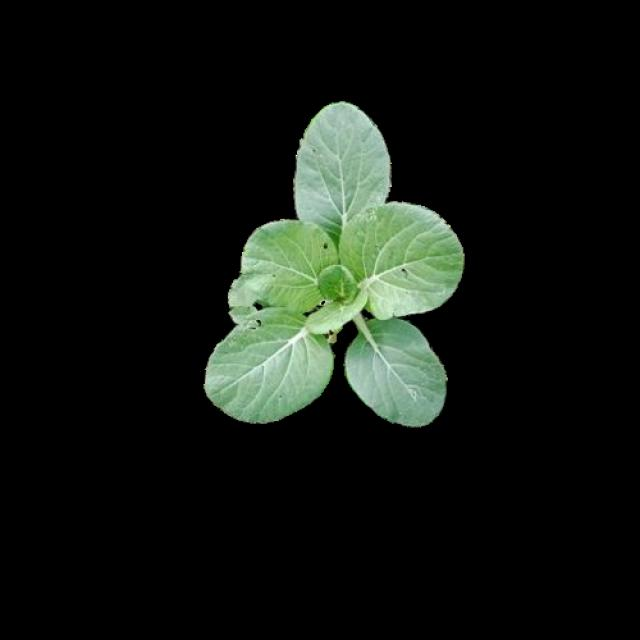not-mature: (206, 101, 462, 425)
unhealthy: (205, 308, 334, 424), (342, 200, 462, 315), (342, 316, 446, 424)
